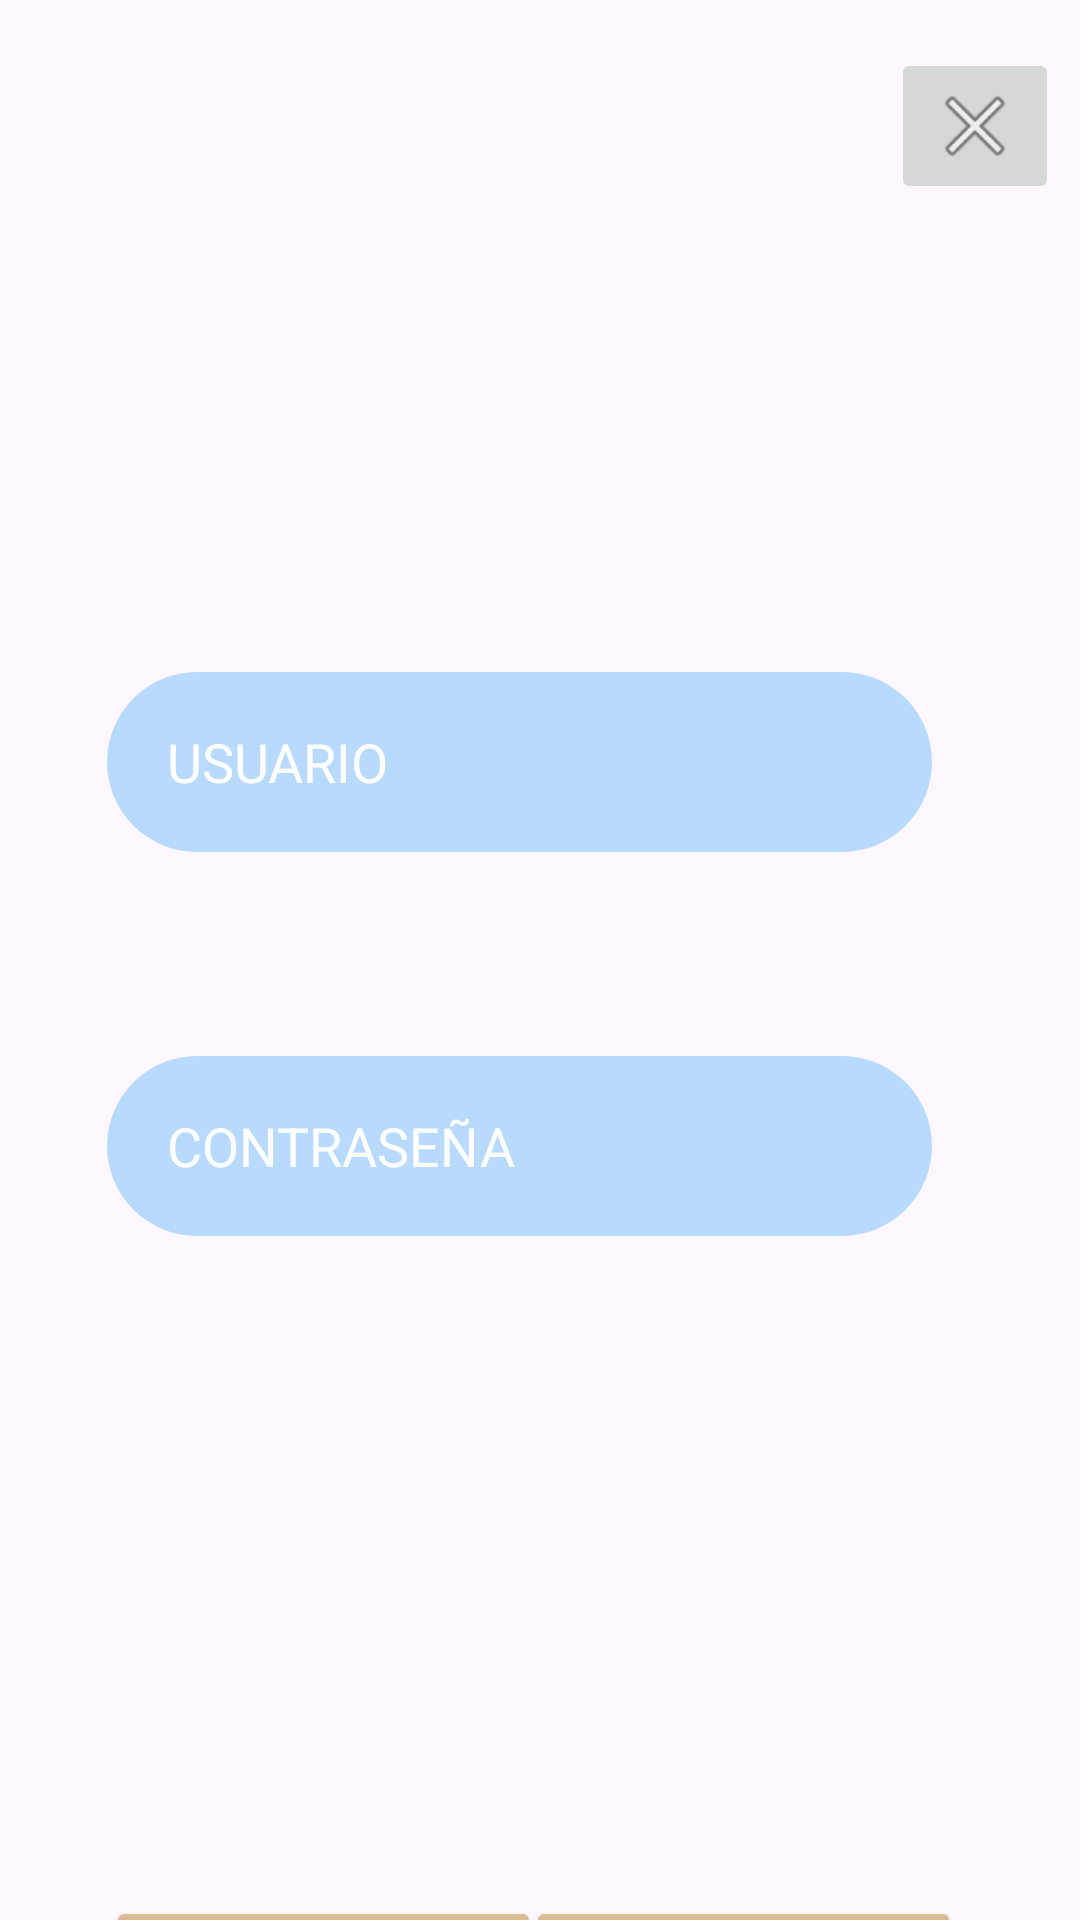

Where icons sit on this 1080w x 1920h app screen, as bbox=(x1, y1, x2, y2):
close clear cancel: bbox=(903, 66, 1047, 186)
